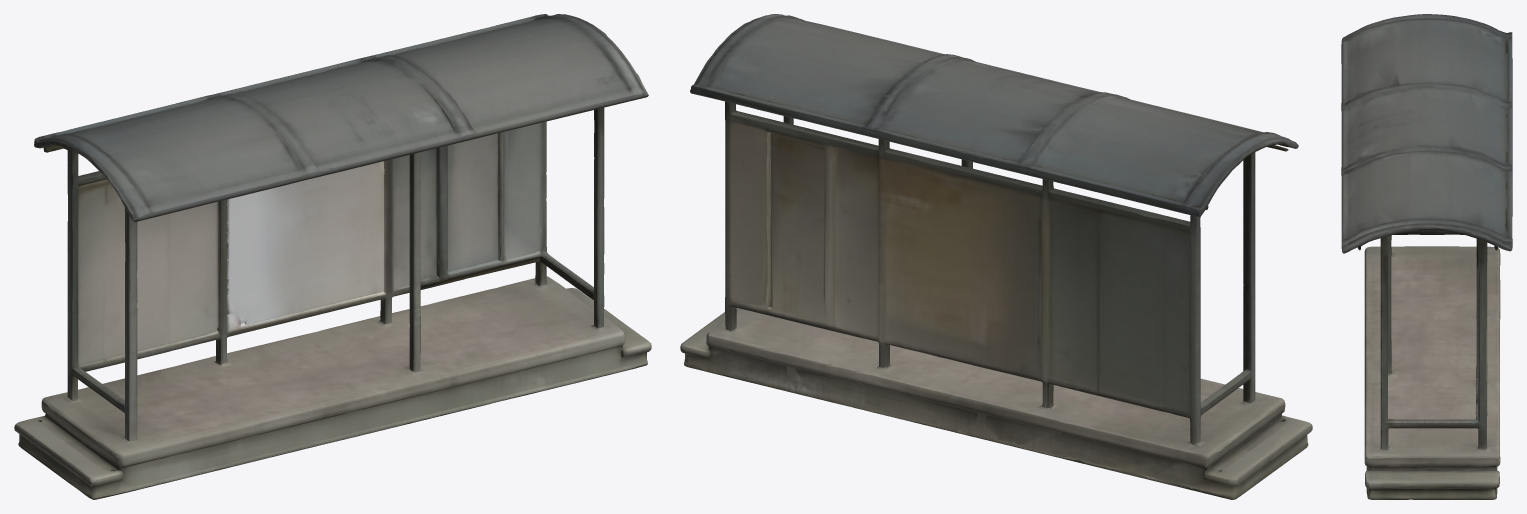
Rendered from platform_base.glb.
The picture shows the model from 3 angles, left to right: view 1: azimuth 30°, elevation 25°; view 2: azimuth 150°, elevation 25°; view 3: azimuth 270°, elevation 25°; orthographic projection. The views are drawn at different scales.
Visible parts, largest first — view 1: world; view 2: world; view 3: world.
Part boxes in pixels (x1,y1,x2,y2): world: (14,14,651,499); world: (680,14,1312,499); world: (1341,14,1512,499).
Bounding box in the file's own units: 10 × 5.39 × 3.11.
Materials: 1 (1 with a texture image).
